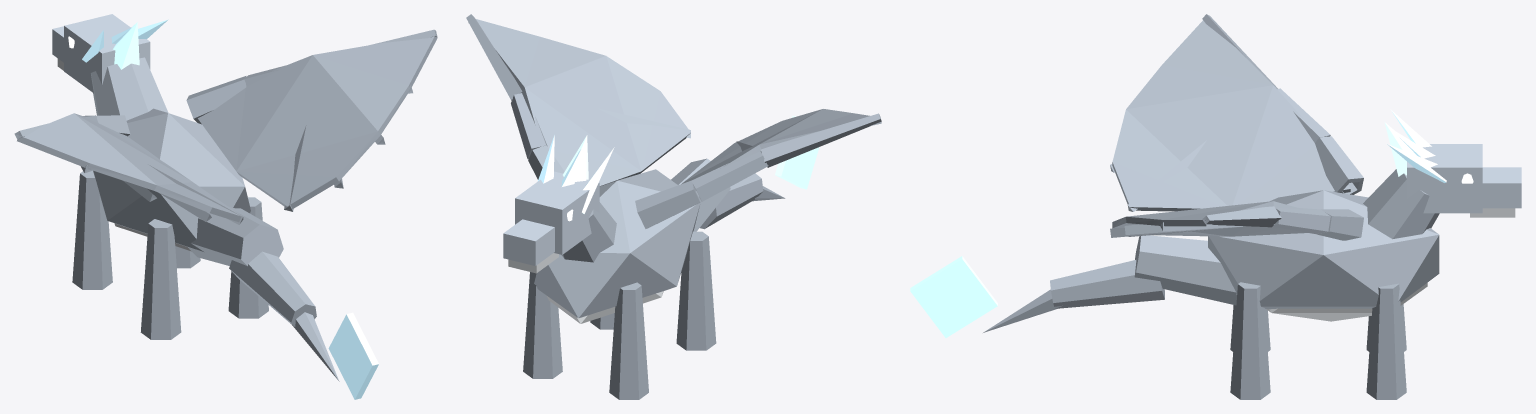
Rendered from dragon_cloud.glb.
3 views of the same model, side by side, from view 1: azimuth 30°, elevation 25°; view 2: azimuth 150°, elevation 25°; view 3: azimuth 270°, elevation 25° (orthographic).
Parts seen in each view (by area): view 1: DragonBody; view 2: DragonBody; view 3: DragonBody.
Part boxes in pixels (box(x1,y1,x2,y2)): DragonBody: box(14, 14, 437, 399); DragonBody: box(466, 14, 881, 399); DragonBody: box(910, 14, 1521, 399).
Bounding box in the file's own units: 4.54 × 2.65 × 5.72.
